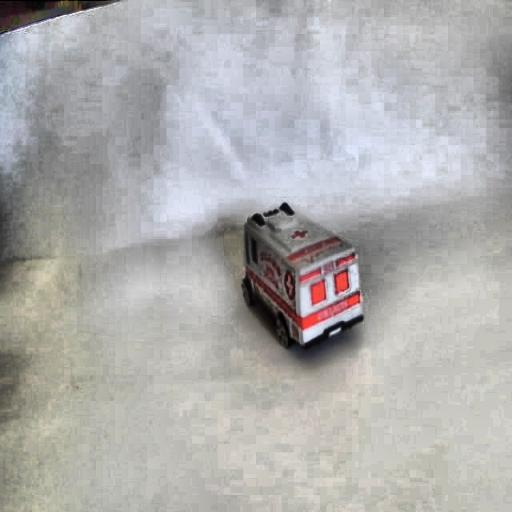ambulance: (240, 200, 363, 350)
